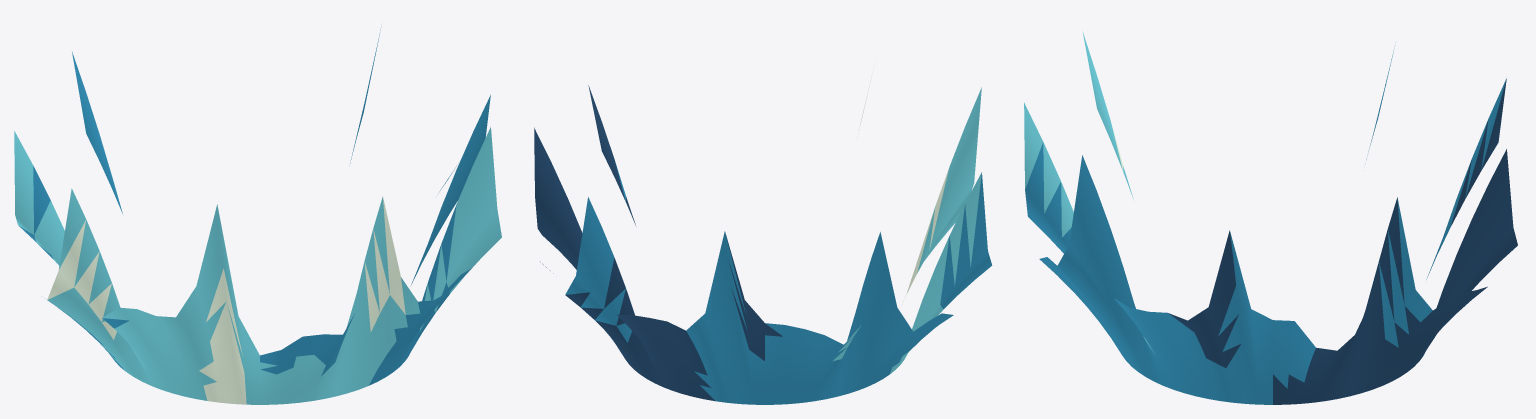
File: water_crown.glb
3 views of the same model, side by side, from view 1: azimuth 30°, elevation 25°; view 2: azimuth 150°, elevation 25°; view 3: azimuth 270°, elevation 25° (orthographic). The views are drawn at different scales.
Visible parts, largest first — view 1: water_crown; view 2: water_crown; view 3: water_crown.
Part boxes in pixels (bbox=[...]): water_crown: bbox=[14, 27, 501, 404]; water_crown: bbox=[534, 60, 992, 404]; water_crown: bbox=[1024, 32, 1517, 404].
Bounding box in the file's own units: 2.24 × 1.25 × 2.24.
